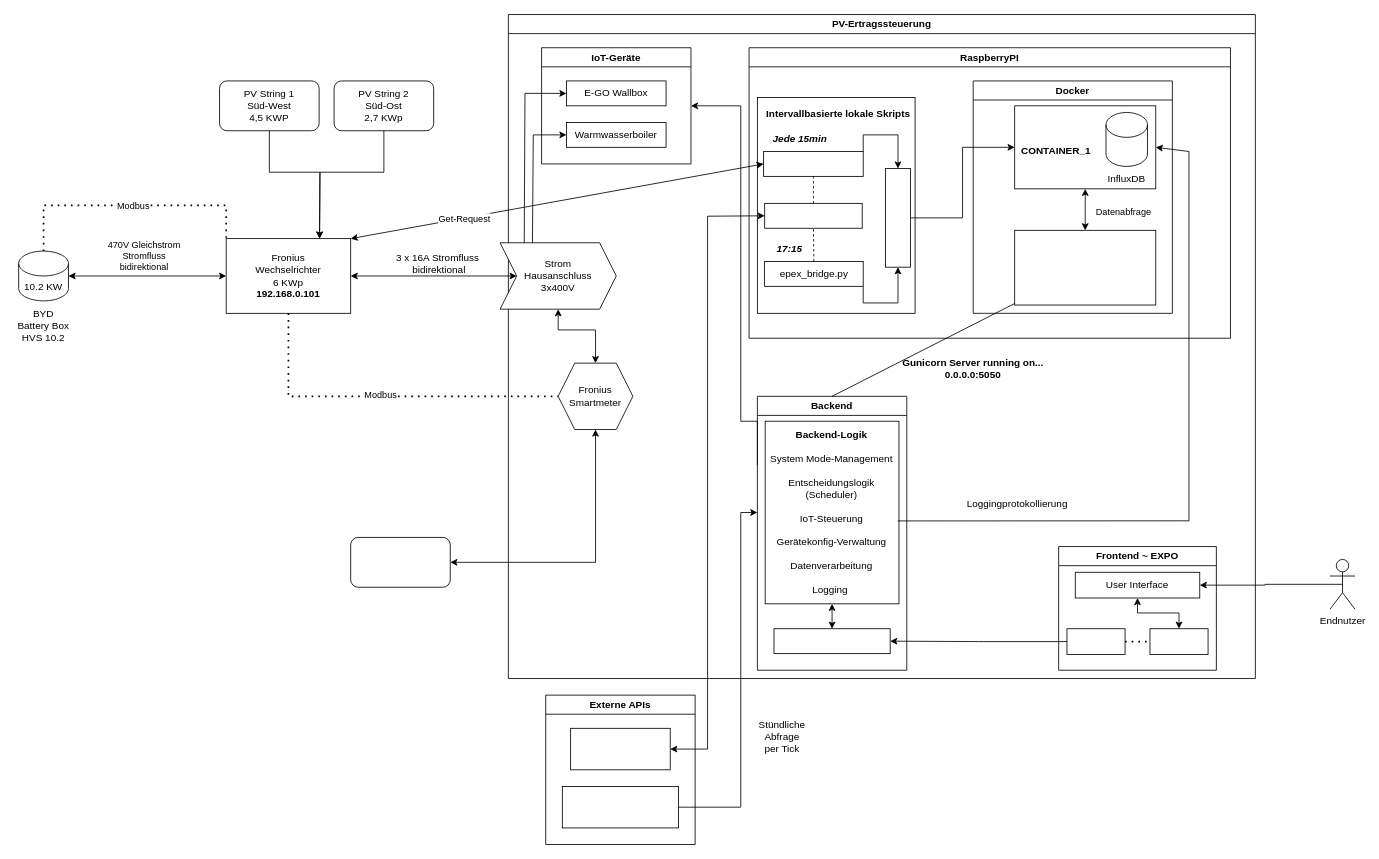
This 1379x859 diagram has some shape labels left out. The shapes that lost their labels are listed below. From the top down, each one's centre as x and y in pixels, then its label:
(x=813, y=163): main.py
(x=813, y=215): device_manager.py
(x=897, y=217): db_bridge.py
(x=1085, y=267): CONTAINER_2
(x=400, y=562): Stromnetz SalzburgNetz 3x400V
(x=831, y=641): FLASK - Endpoints
(x=1095, y=641): Helper.ts
(x=1178, y=641): Services
(x=620, y=748): EPEX Aktueller Strompreis
(x=620, y=807): OPEN-METEO Wetterabfrage
